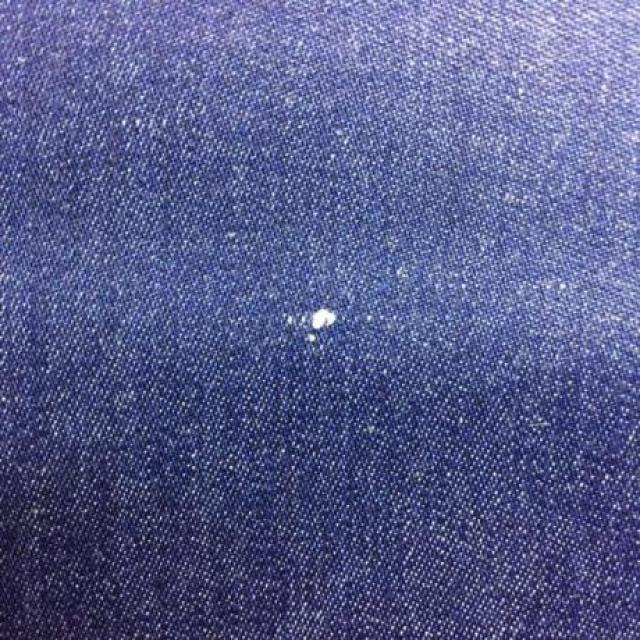Thread_other: (240, 282, 410, 386)
